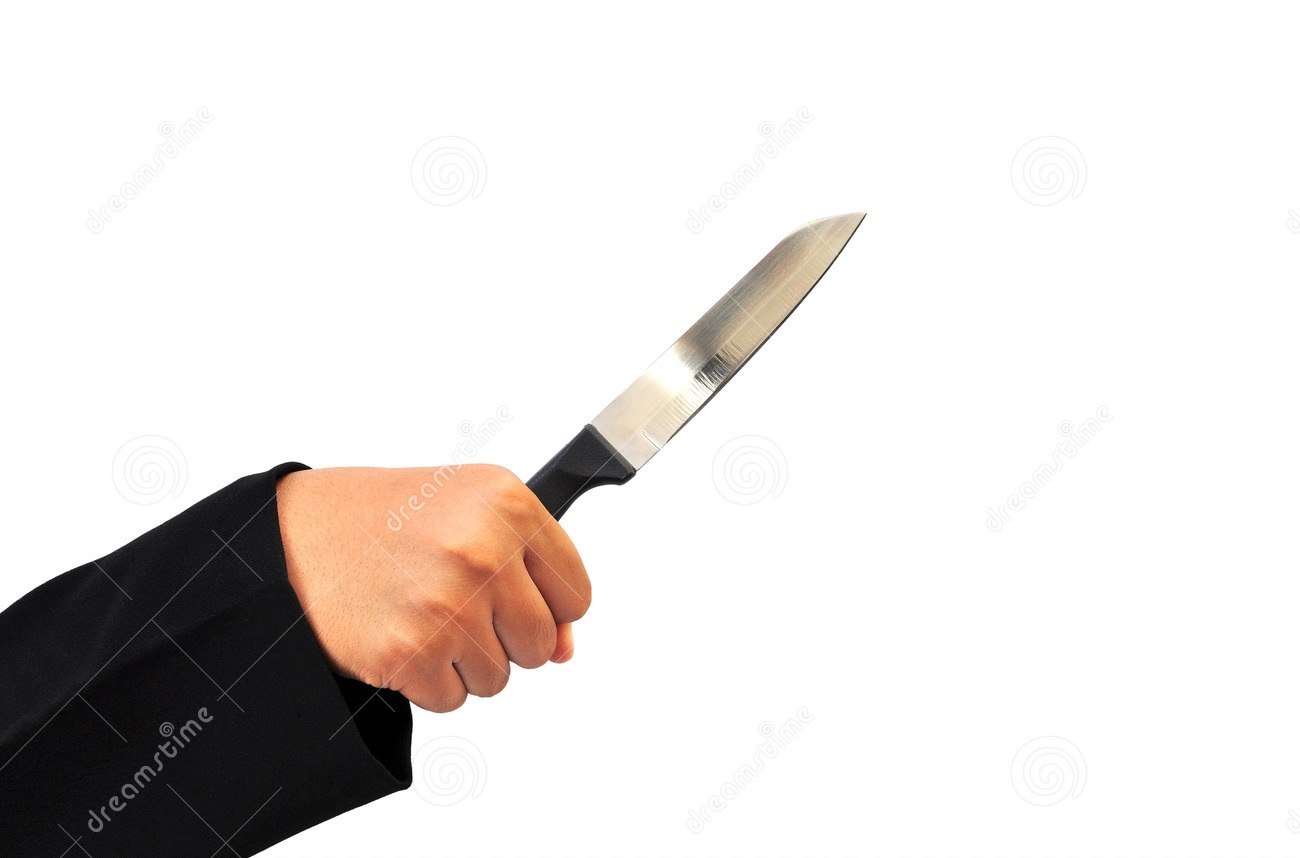knife: (421, 193, 886, 712)
